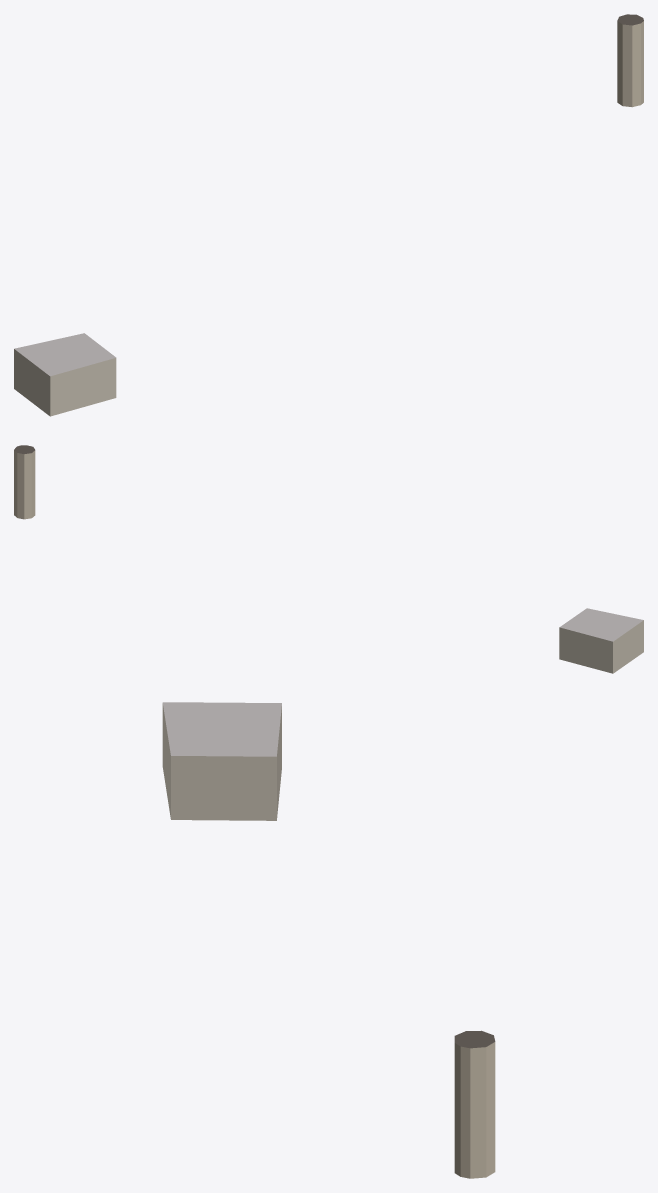
3 renders of one model, top to bottom at view 1: azimuth 30°, elevation 25°; view 2: azimuth 150°, elevation 25°; view 3: azimuth 270°, elevation 25°, orthographic. The views are drawn at different scales.
Parts seen in each view (by area): view 1: tuile; view 2: tuile; view 3: tuile.
Part boxes in pixels (<box>): tuile: <box>14,14,643,416</box>; tuile: <box>14,445,643,673</box>; tuile: <box>162,702,495,1178</box>.
Size of the model in its own units: 168 by 37.22 by 44.
